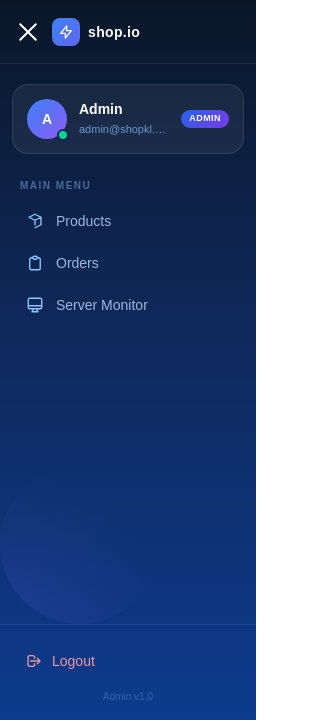
Sidebar — toggle behaviour › hides brand label when toggled closed
Click the button named "toggle sidebar" at x=28, y=32, box [16,20,40,44]
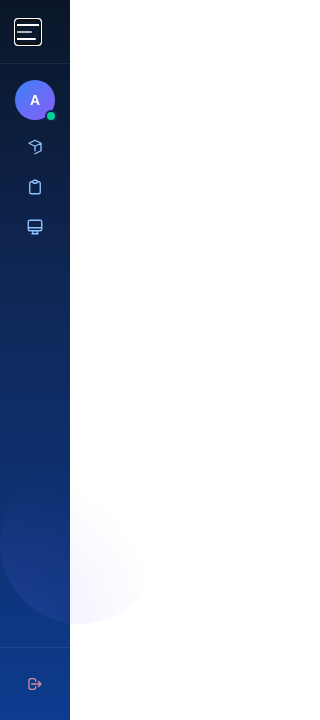
Now the text "shop.io" is gone
